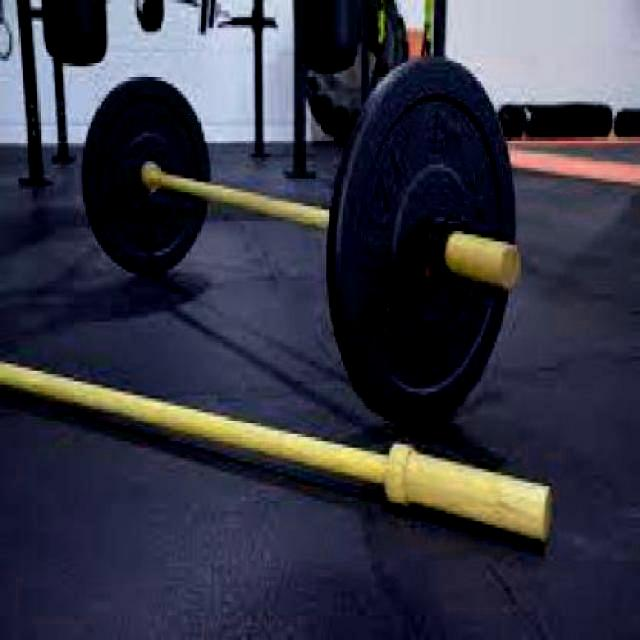barbell: (318, 45, 530, 434)
